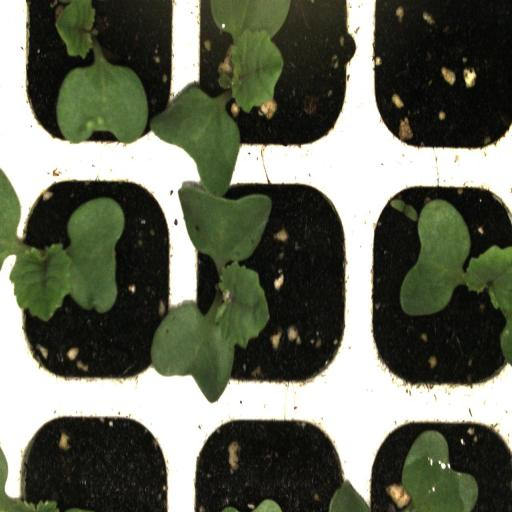noseedling: (362, 0, 512, 170)
seedling: (0, 163, 181, 402), (181, 164, 361, 400), (362, 161, 512, 403), (0, 0, 186, 173), (186, 0, 361, 174)
